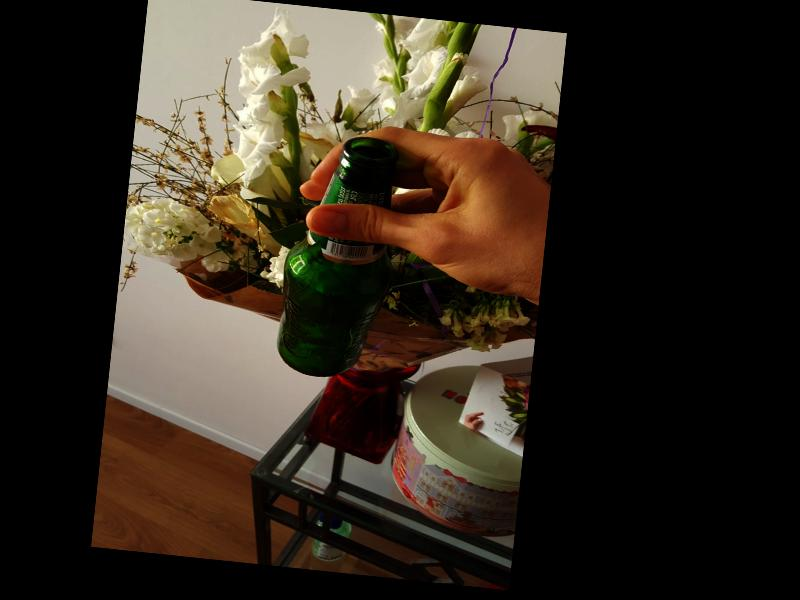Beer: (272, 131, 405, 384)
